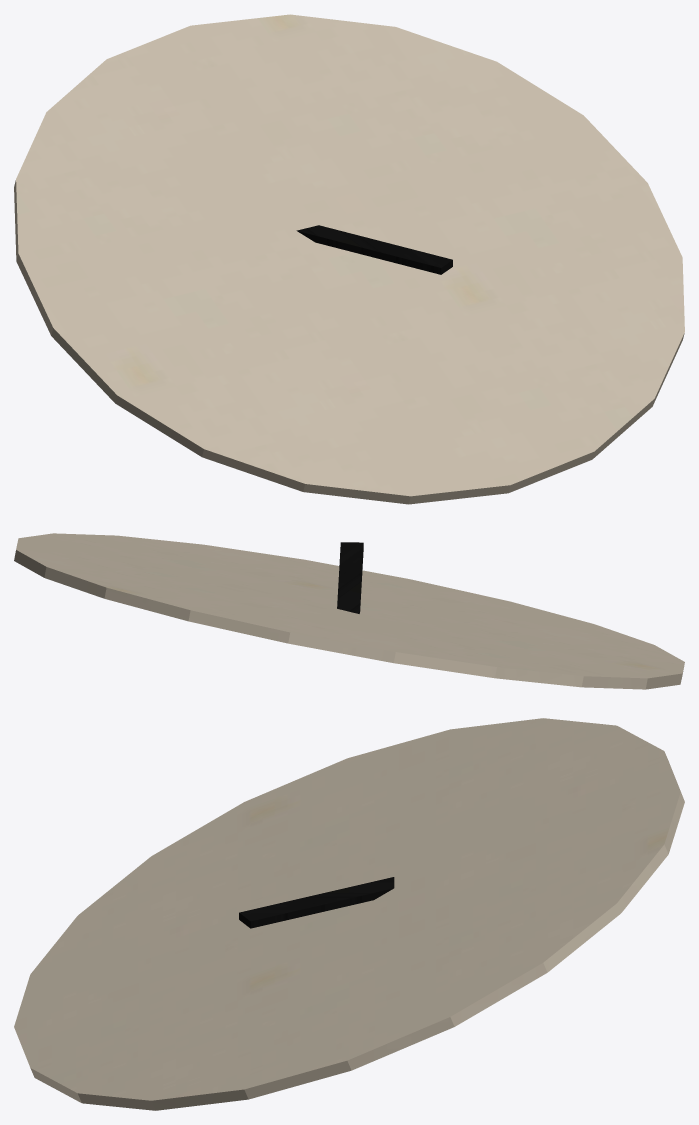
Rendered from crossing_dial_01.glb.
The picture shows the model from 3 angles, top to bottom: view 1: azimuth 30°, elevation 25°; view 2: azimuth 150°, elevation 25°; view 3: azimuth 270°, elevation 25°; orthographic projection. The views are drawn at different scales.
Parts seen in each view (by area): view 1: crossing_dial_01; view 2: crossing_dial_01; view 3: crossing_dial_01.
Boxes of the visible parts, x1,y1,x2,y2 form: crossing_dial_01: [14, 14, 684, 504]; crossing_dial_01: [14, 533, 684, 689]; crossing_dial_01: [14, 718, 684, 1110].
Size of the model in its own units: 1.8 by 0.6802 by 1.69.
2 materials, 2 textured.
